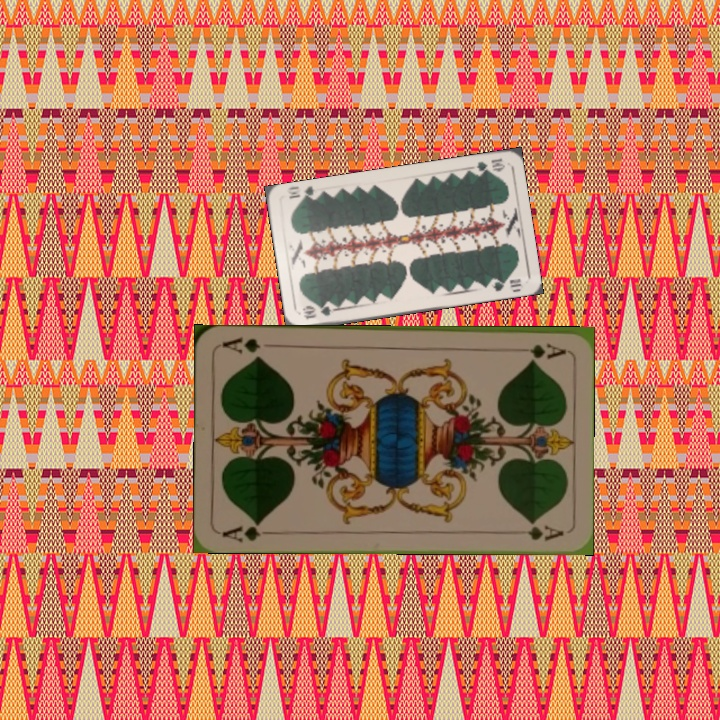G10: (467, 154, 508, 177), (299, 301, 339, 321)
GA: (218, 518, 277, 545), (509, 339, 568, 360)
